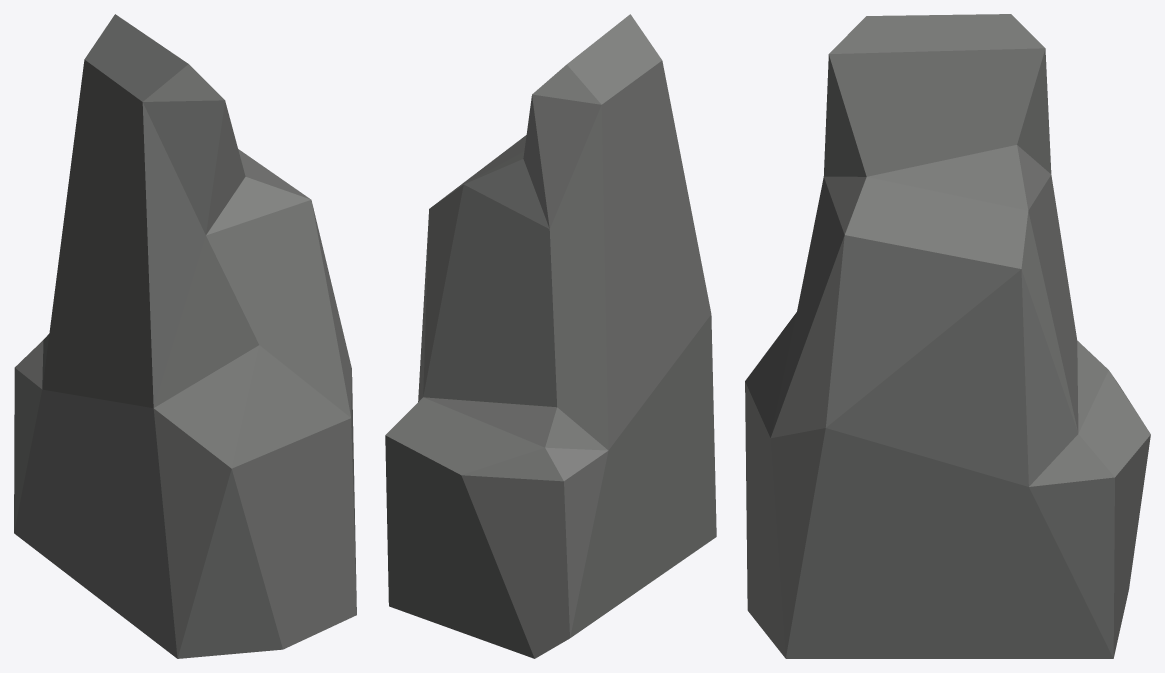
Rendered from RW_HG_Environment_Rocks.003.fbx.
3 views of the same model, side by side, from view 1: azimuth 30°, elevation 25°; view 2: azimuth 150°, elevation 25°; view 3: azimuth 270°, elevation 25° (orthographic). The views are drawn at different scales.
Parts seen in each view (by area): view 1: RW_HG_Environment_Rocks.003; view 2: RW_HG_Environment_Rocks.003; view 3: RW_HG_Environment_Rocks.003.
Boxes of the visible parts, x1,y1,x2,y2 form: RW_HG_Environment_Rocks.003: (14, 14, 356, 658); RW_HG_Environment_Rocks.003: (385, 14, 716, 658); RW_HG_Environment_Rocks.003: (745, 14, 1150, 658).
Bounding box in the file's own units: 0.486 × 1.27 × 0.7979.
